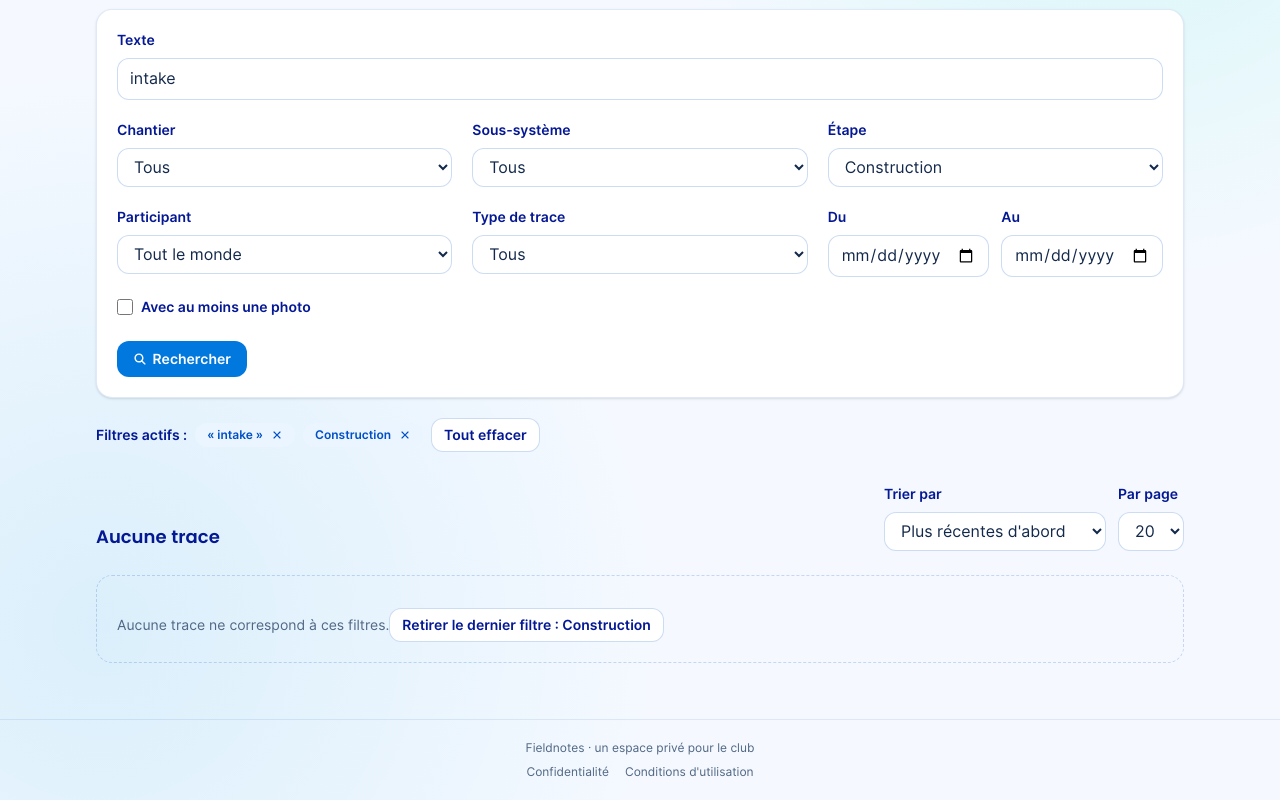
it: offers to remove the filter added last when nothing matches
(page scrolled)
Click the button "Retirer le dernier filtre : Construction" at (527, 625), box [389,608,664,642]
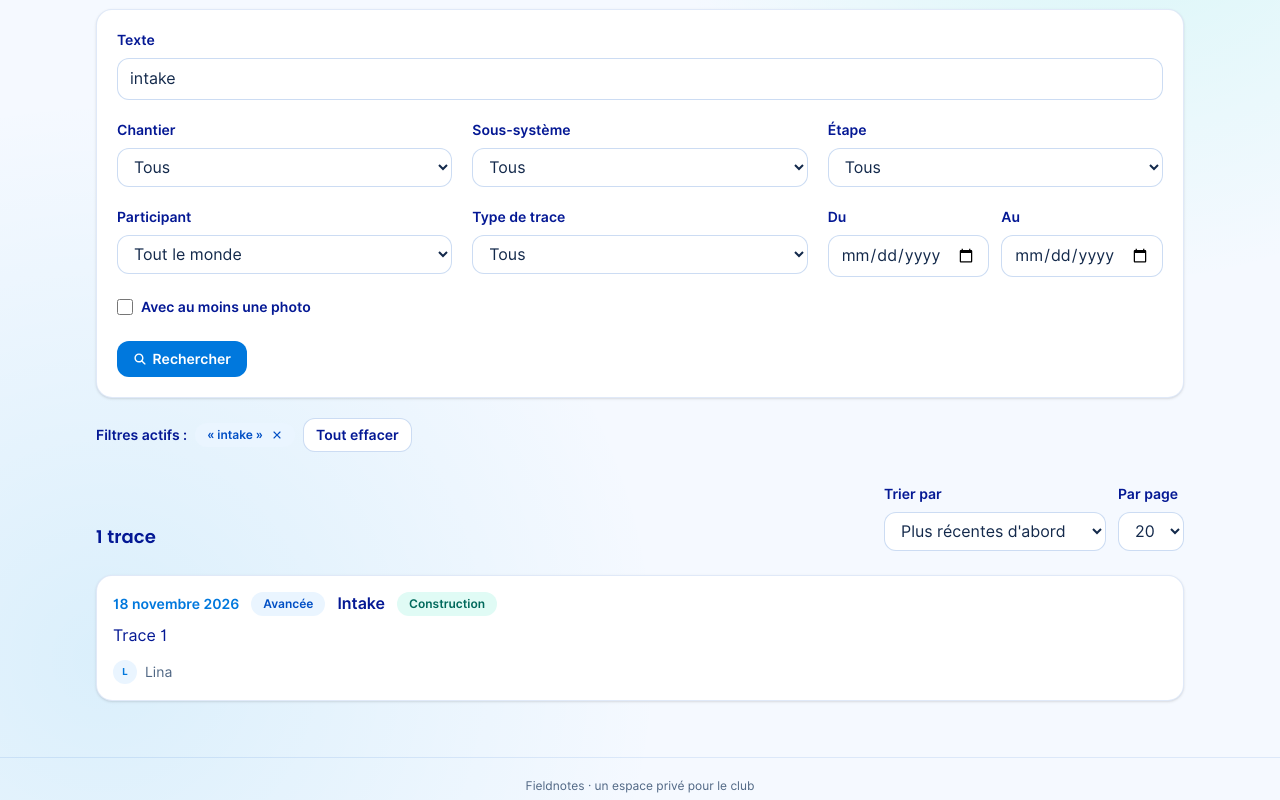
Result: the text "Trace 1" is shown at [113,626,167,645]
